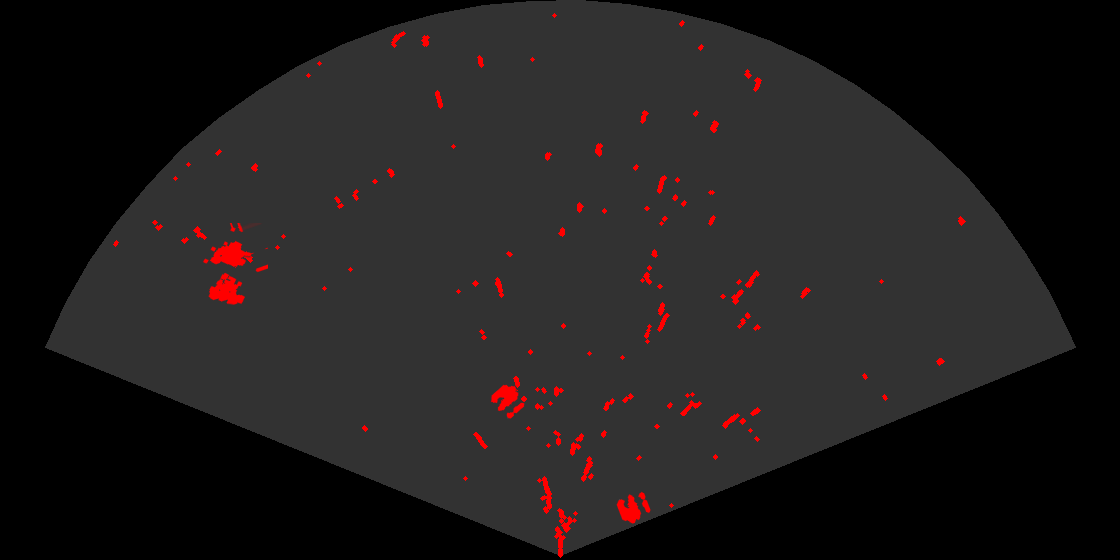ball: (489, 383, 526, 420), (615, 490, 652, 525)
cage: (201, 223, 268, 307)
